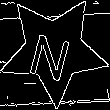N_N: (29, 20, 79, 80)
